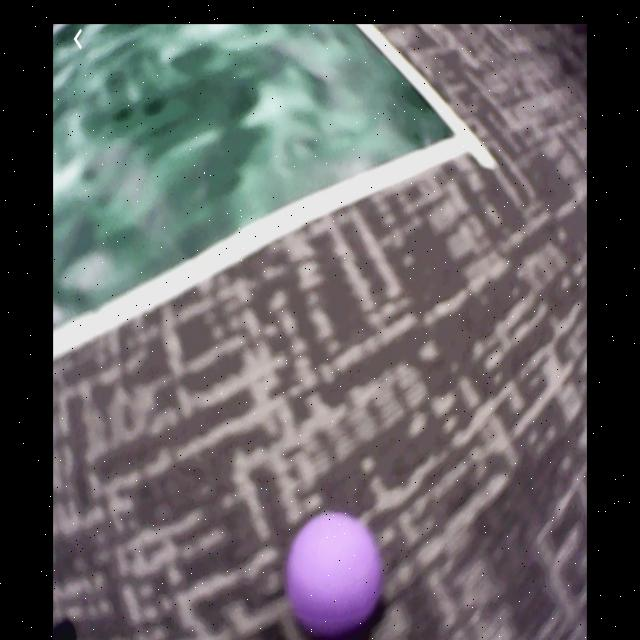ball: (285, 511, 383, 631)
